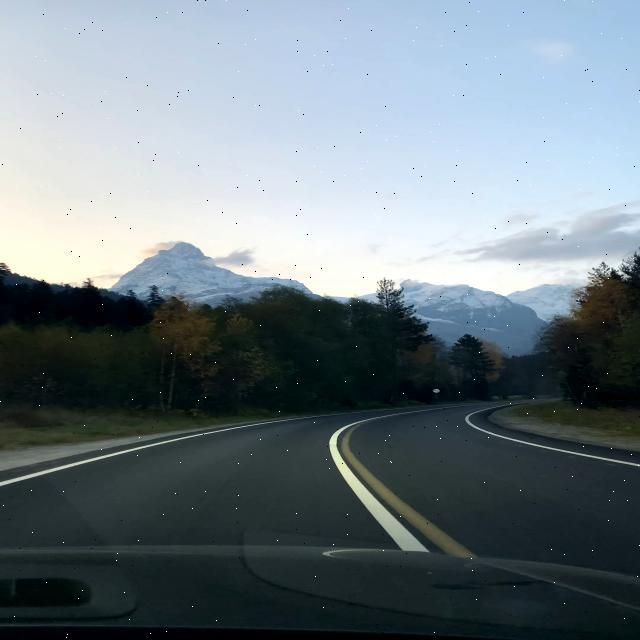lane: (0, 418, 304, 486), (329, 408, 444, 551), (516, 440, 640, 466)
road: (1, 405, 639, 637)
